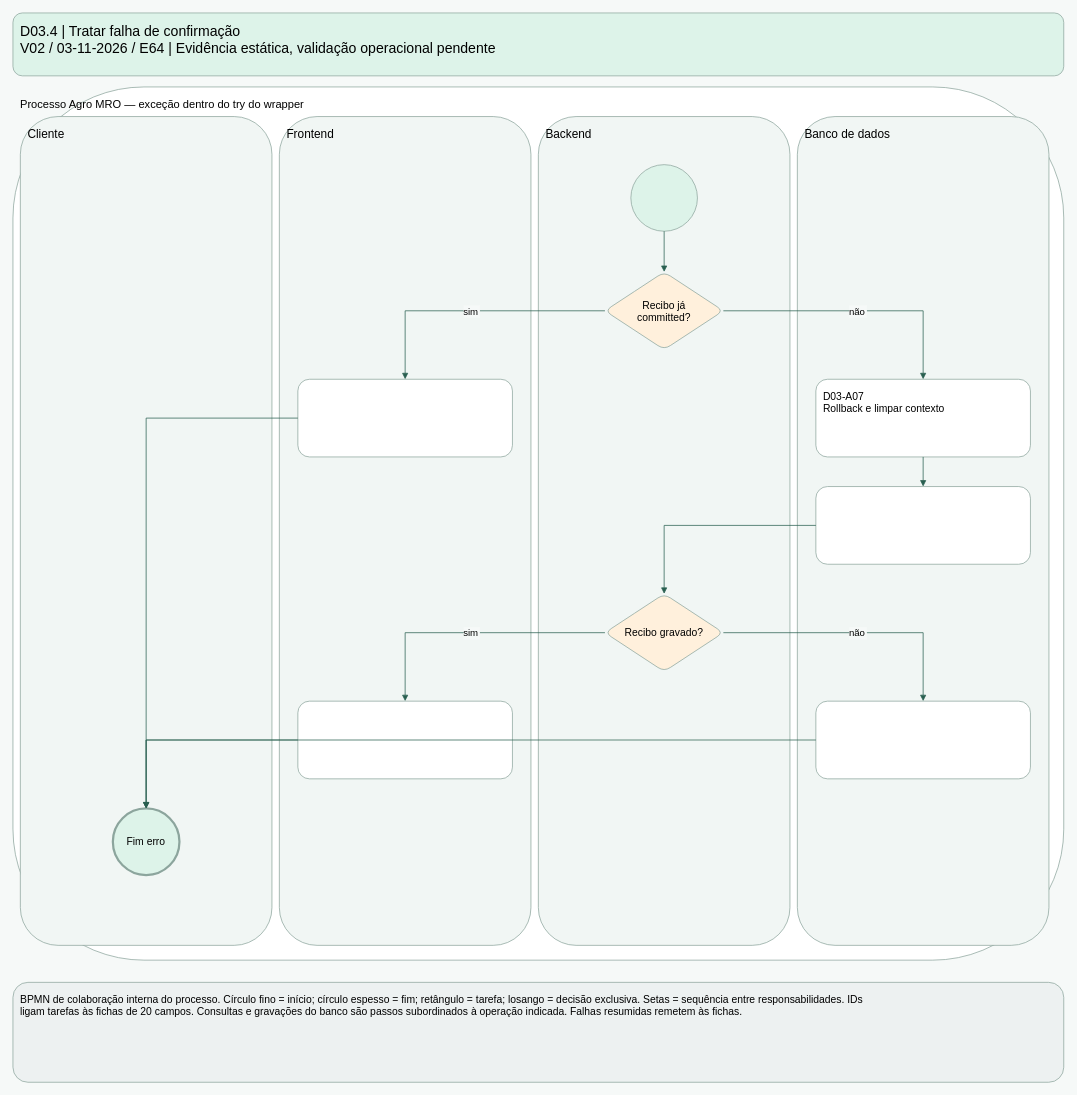
Some shapes in this 1077 by 1095 pixel diagram are drawn without their labels. Each missing label, with the centre of its shape:
"Criar failed_attempt e tentar commit em nova transação" belongs at point 922,525.
"Devolver failed com receipt_id" belongs at point 404,739.
"Falha" belongs at point 663,197.
"Propagar exceção existente" belongs at point 404,418.
"Rollback secundário; retornar not_persisted" belongs at point 922,739.
